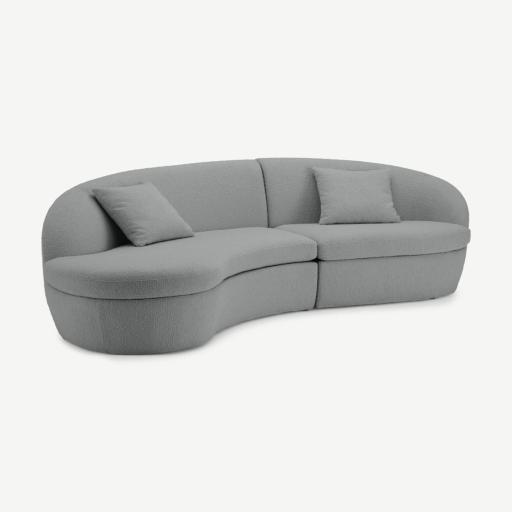back_cushion: (42, 158, 468, 262)
base: (45, 248, 466, 355)
left_arm: (391, 169, 468, 226)
right_arm: (42, 187, 128, 262)
seat_cushion: (43, 221, 470, 298)
two-seater: (0, 0, 511, 512)
